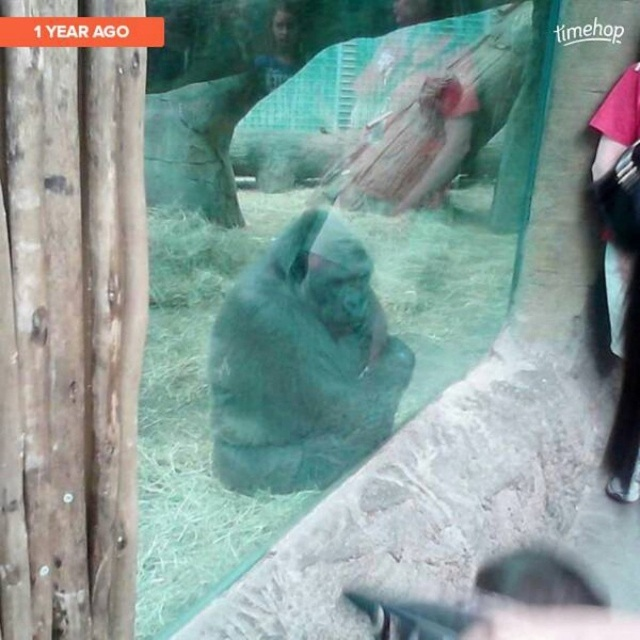Monkey: (204, 209, 414, 494)
